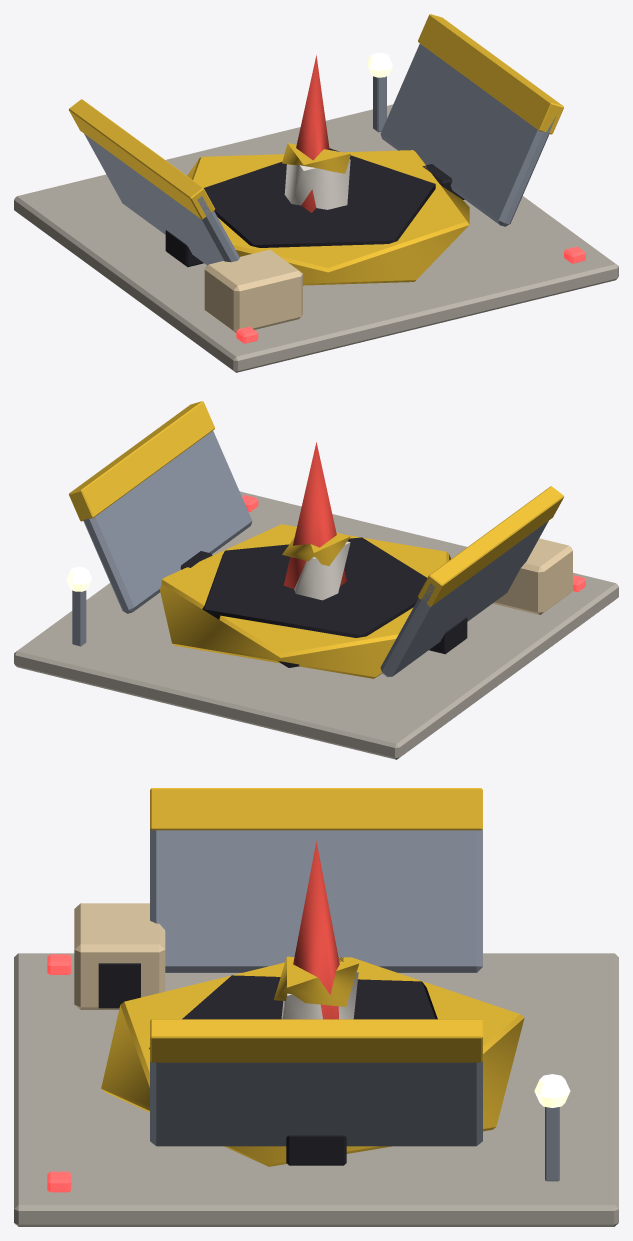
The model's file is missile_silo.glb.
3 views of the same model, one above another, from view 1: azimuth 30°, elevation 25°; view 2: azimuth 150°, elevation 25°; view 3: azimuth 270°, elevation 25° (orthographic). The views are drawn at different scales.
Parts seen in each view (by area): view 1: missile_silo; view 2: missile_silo; view 3: missile_silo.
Boxes of the visible parts, x1,y1,x2,y2 form: missile_silo: [14, 14, 618, 372]; missile_silo: [14, 401, 618, 759]; missile_silo: [14, 788, 618, 1226].
Size of the model in its own units: 20 by 9.5 by 20.
Materials: 1 (1 with a texture image).
